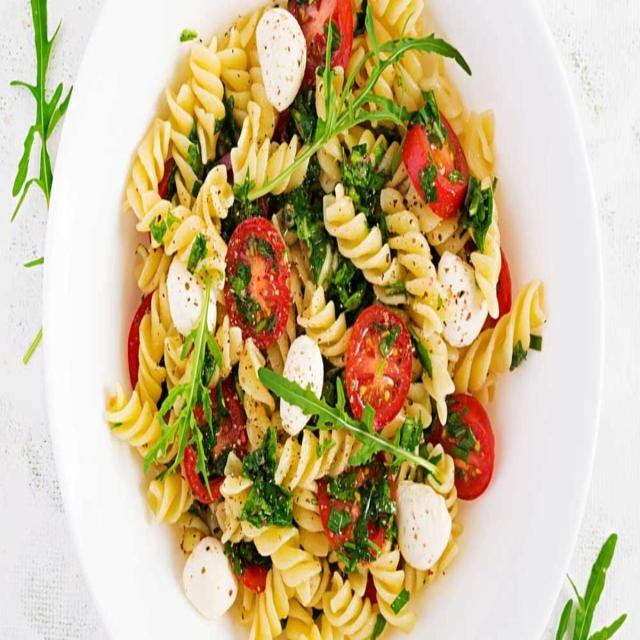pasta: (119, 5, 533, 634)
